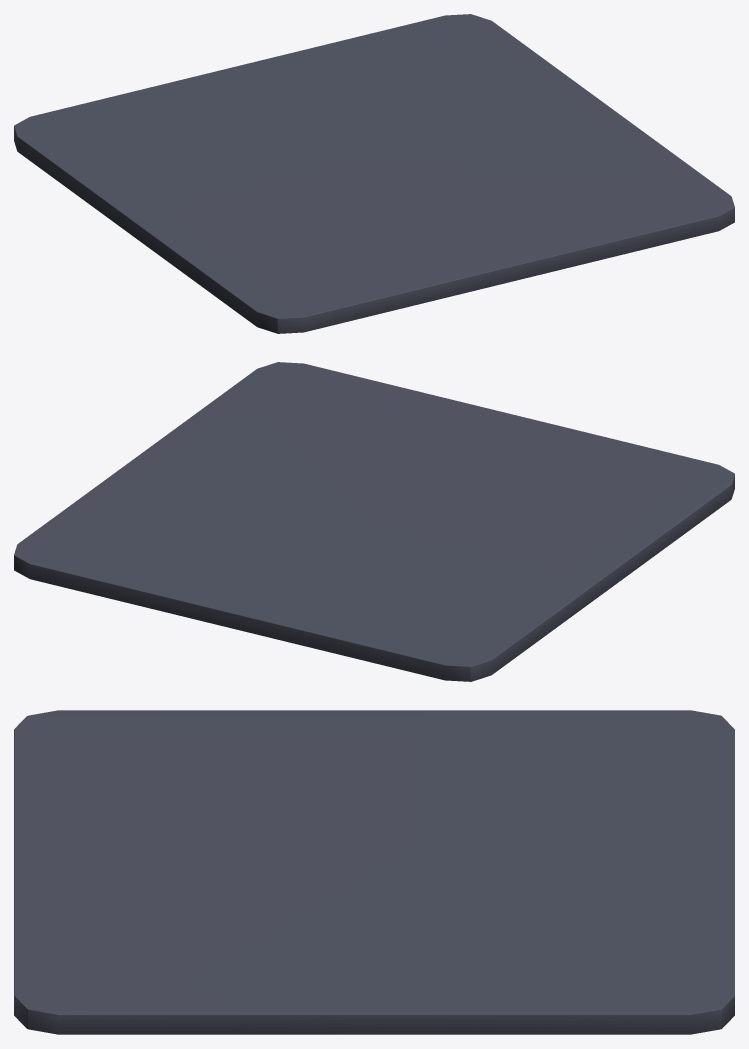
Rendered from roof-flat-patch-large.glb.
3 views of the same model, one above another, from view 1: azimuth 30°, elevation 25°; view 2: azimuth 150°, elevation 25°; view 3: azimuth 270°, elevation 25° (orthographic). The views are drawn at different scales.
Visible parts, largest first — view 1: roof-flat-patch-large; view 2: roof-flat-patch-large; view 3: roof-flat-patch-large.
Boxes of the visible parts, box(x1,y1,x2,y2) form: roof-flat-patch-large: box(14, 14, 734, 333); roof-flat-patch-large: box(14, 362, 734, 681); roof-flat-patch-large: box(14, 710, 734, 1034).
Bounding box in the file's own units: 1.6 × 0.05 × 1.6.
1 material, 1 textured.
